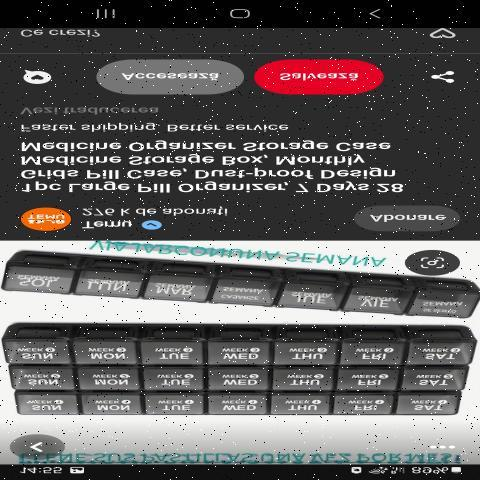PillBox: (0, 312, 464, 430)
